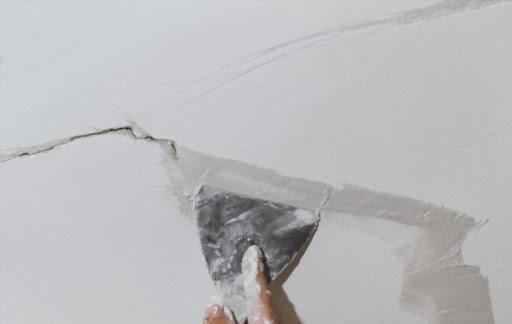Crack: (0, 120, 185, 172)
